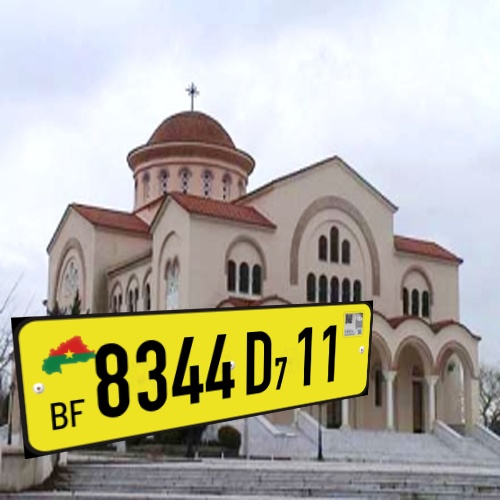plate: (6, 291, 384, 461)
